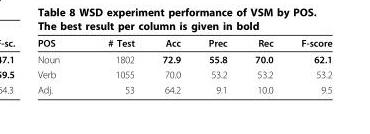table: (36, 36, 331, 94)
table column: (83, 36, 147, 94), (36, 36, 83, 94), (193, 36, 240, 94), (147, 36, 193, 94), (240, 36, 286, 94), (286, 36, 331, 94)
table column header: (36, 36, 331, 50)
table row: (36, 50, 331, 66), (36, 66, 331, 81), (36, 36, 331, 50), (36, 81, 331, 94)
